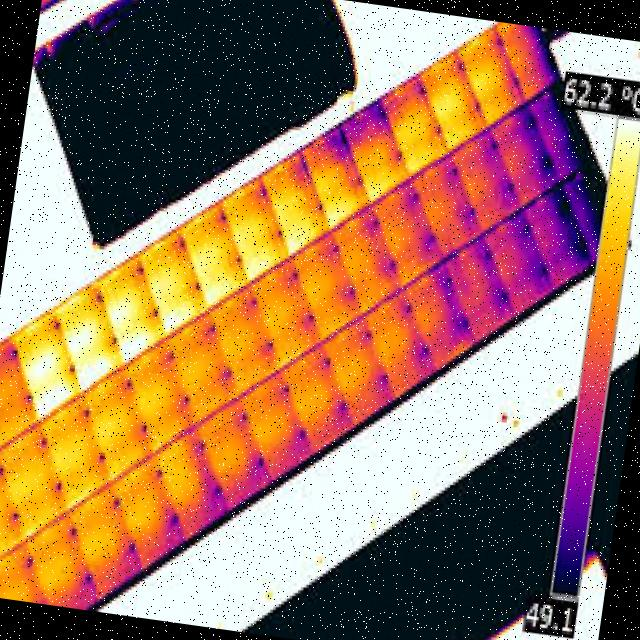Hotspot: (50, 284, 130, 398), (174, 202, 254, 308), (96, 258, 170, 370), (260, 160, 332, 263), (7, 314, 81, 414), (220, 184, 294, 284), (412, 65, 488, 162), (298, 136, 374, 230), (139, 232, 208, 332), (382, 87, 448, 183), (454, 47, 521, 127), (356, 137, 404, 204)
